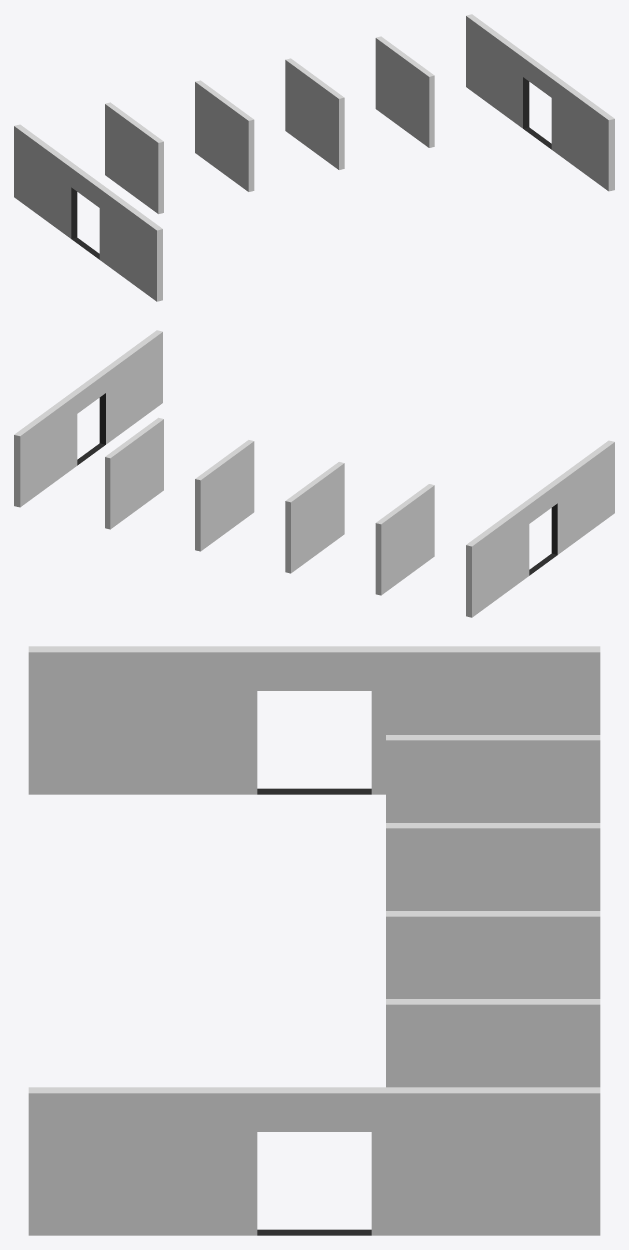
File: Quarters_02_Fill.fbx
3 views of the same model, one above another, from view 1: azimuth 30°, elevation 25°; view 2: azimuth 150°, elevation 25°; view 3: azimuth 270°, elevation 25° (orthographic). The views are drawn at different scales.
Parts seen in each view (by area): view 1: Quarters_02_Fill; view 2: Quarters_02_Fill; view 3: Quarters_02_Fill.
Boxes of the visible parts, x1=… form: Quarters_02_Fill: x1=14, y1=14, x2=614, y2=301; Quarters_02_Fill: x1=14, y1=330, x2=614, y2=617; Quarters_02_Fill: x1=28, y1=646, x2=600, y2=1235.
Bounding box in the file's own units: 7400 × 1100 × 4000.
